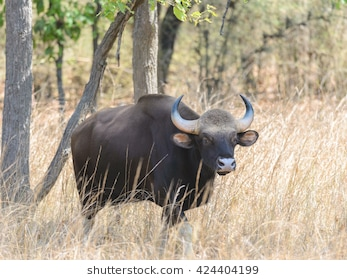bison: (66, 92, 262, 232)
